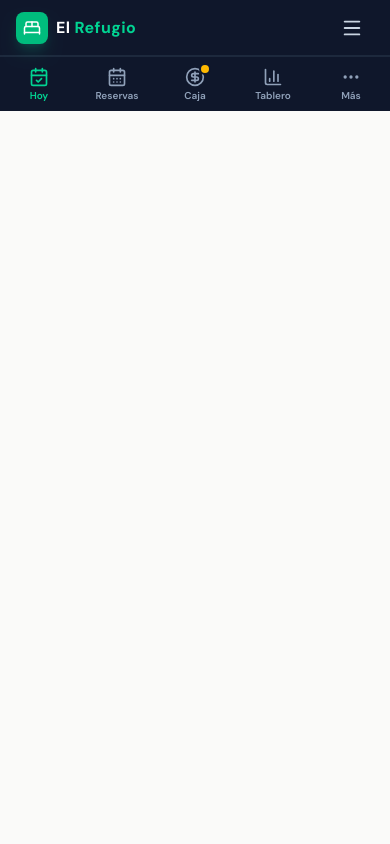
el botón Más y el cajón de la hamburguesa › la hamburguesa sigue abriendo el cajón
Click the button named "Abrir menú" at [352, 28], box x1=330 y1=6 x2=374 y2=50
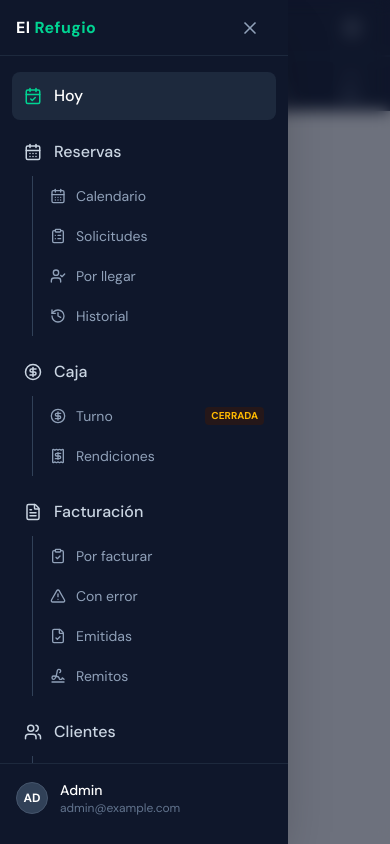
Expected: the navigation bar named "Menú del panel" is shown
